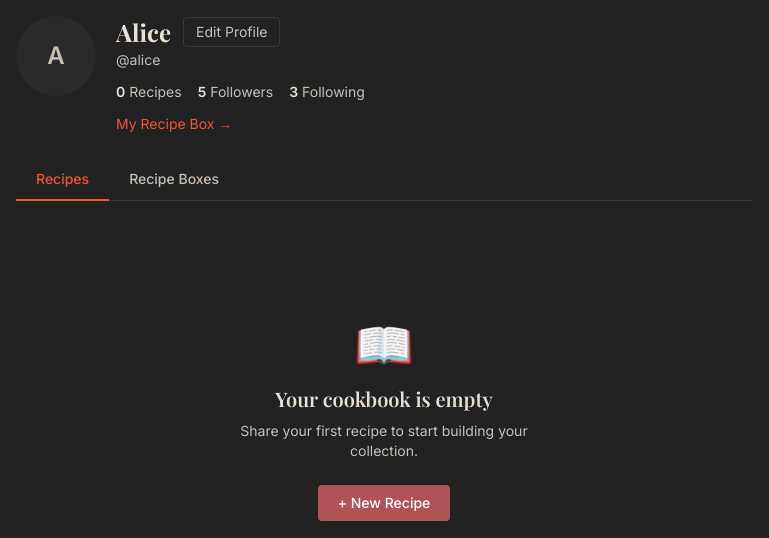
UserProfilePage — boxes tab › renders boxes when API returns data
expect the heading "Alice" is shown: met, box [116,16,171,48]
Step 1. Click the button "Recipe Boxes" → (174, 180), box [109,159,239,201]
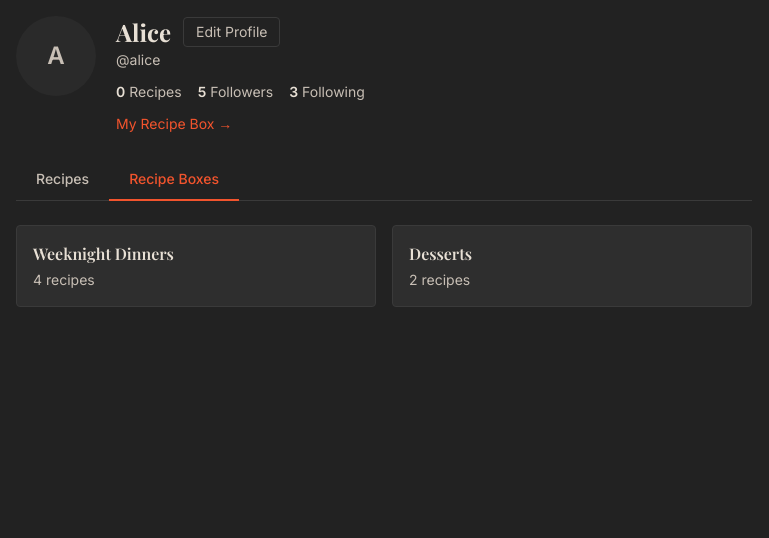
expect the heading "Weeknight Dinners" is shown: met, box [33,243,174,264]
expect the heading "Desserts" is shown: met, box [409,243,472,264]
